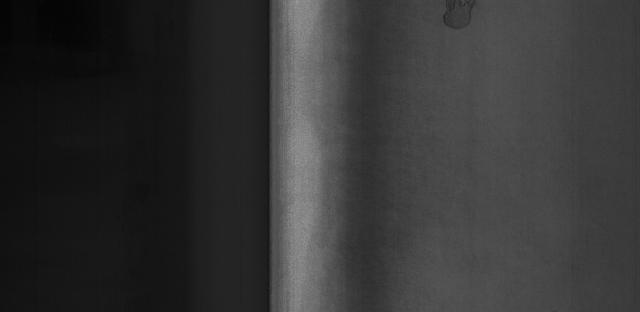water_spot: (428, 0, 488, 37)
